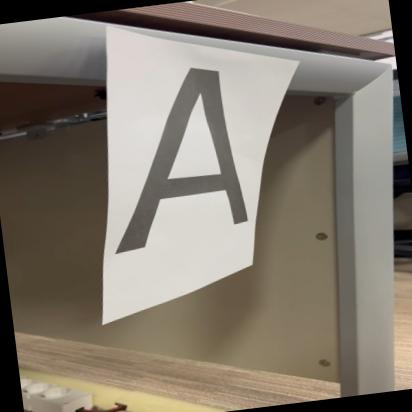seat: (89, 58, 285, 262)
